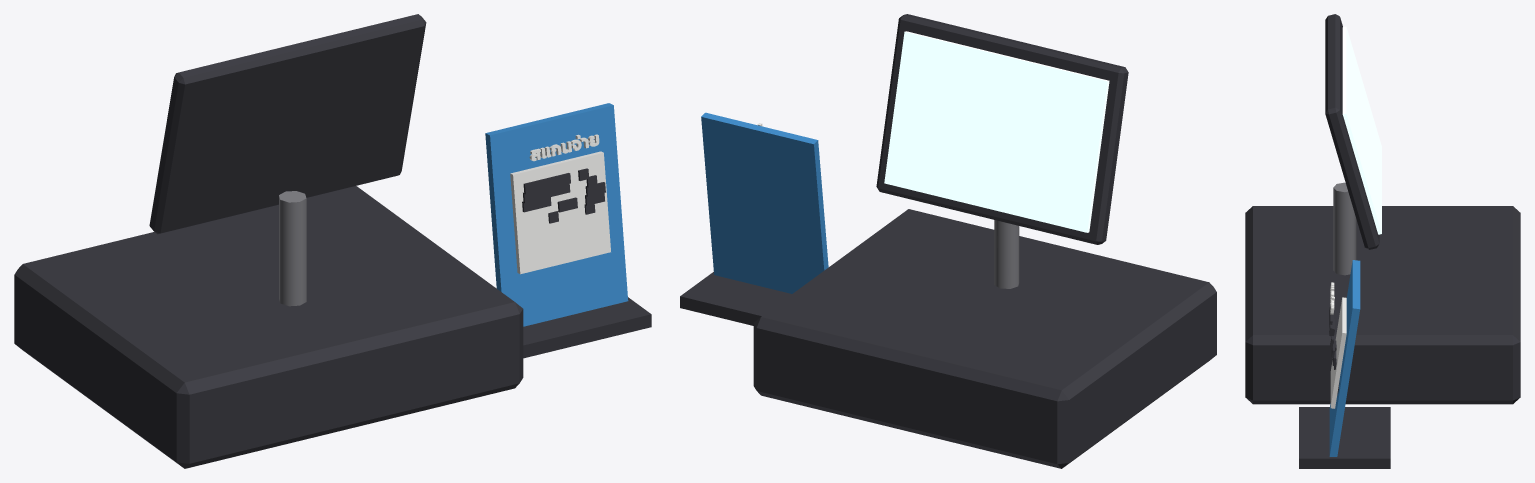
File: SM_POS.fbx
3 renders of one model, left to right at view 1: azimuth 30°, elevation 25°; view 2: azimuth 150°, elevation 25°; view 3: azimuth 270°, elevation 25°, orthographic. The views are drawn at different scales.
Visible parts, largest first — view 1: SM_POS; view 2: SM_POS; view 3: SM_POS.
Part boxes in pixels (left/top/right/bottom): SM_POS: left=14, top=14, right=651, bottom=468; SM_POS: left=680, top=14, right=1216, bottom=468; SM_POS: left=1245, top=14, right=1520, bottom=468.
Bounding box in the file's own units: 0.61 × 0.4027 × 0.36.
